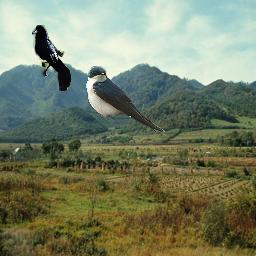Crow: (32, 25, 71, 91)
Swallow: (86, 66, 165, 133)
